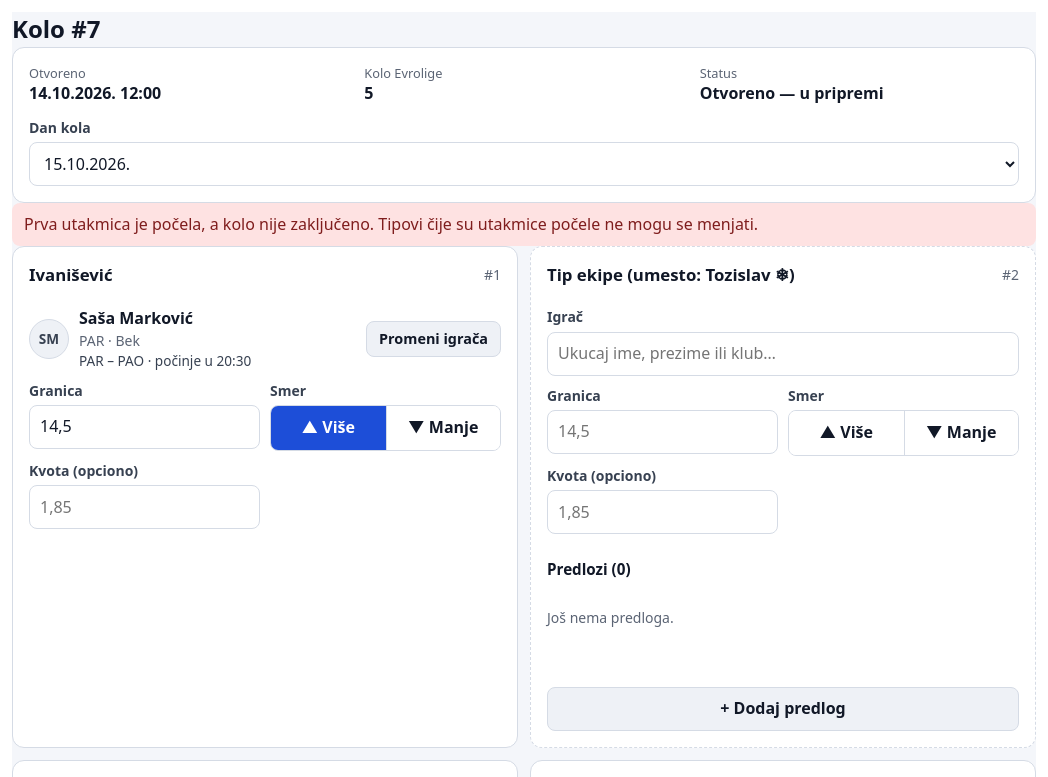
Test: RoundEditor autosave › rejects whole-number lines client-side and saves valid x,5 lines with the CSRF header
In the field labelled "Granica" below "PAR – PAO": (144, 427) [29,405,260,449], type "15"
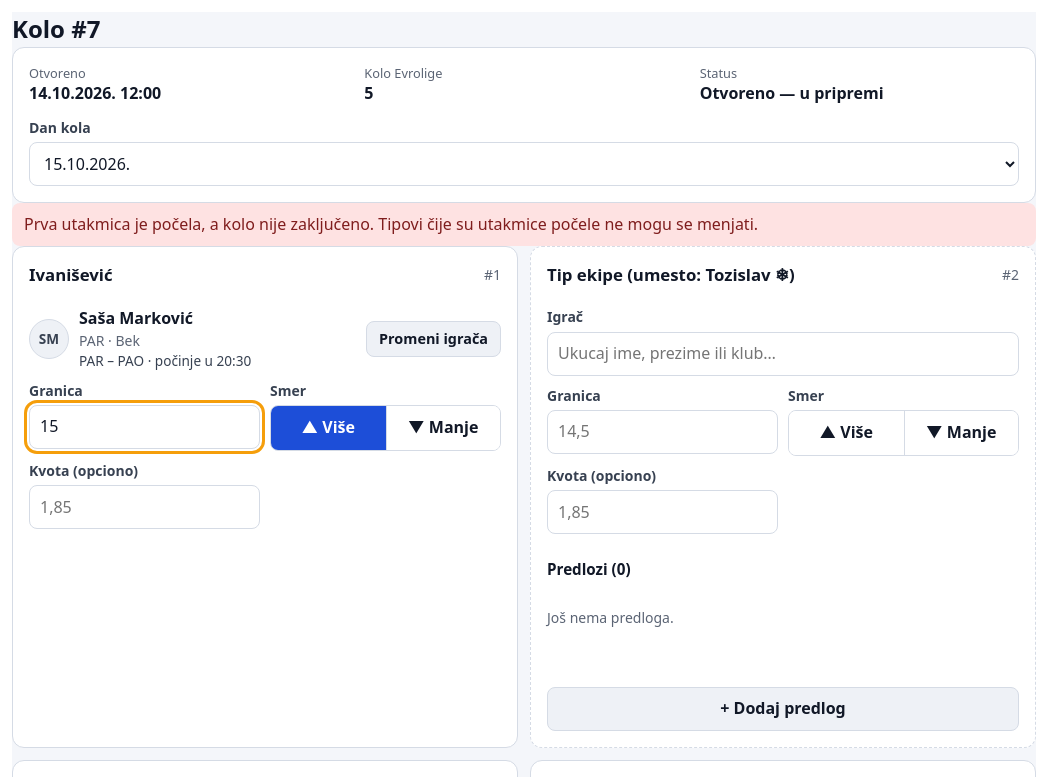
Press Tab
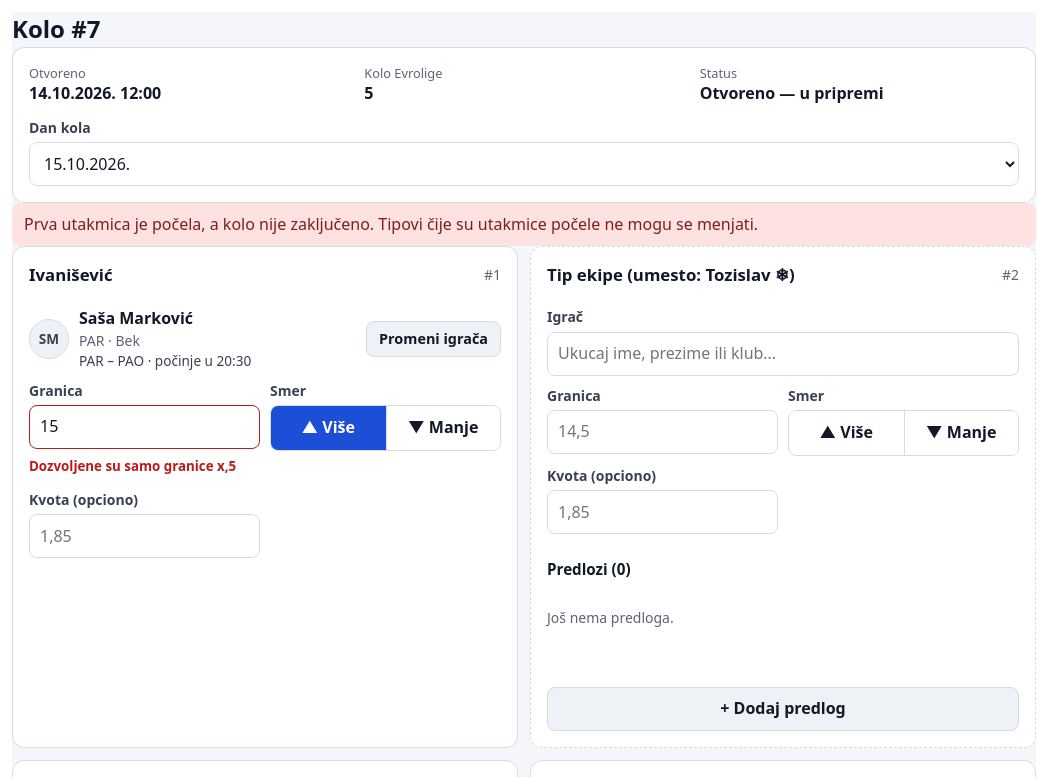
Expected: the text "Dozvoljene su samo granice x,5" is shown, [29,457,260,476]
Replace the text in the field labelled "Granica" below "PAR – PAO" with "16,5": (144, 427) [29,405,260,449]
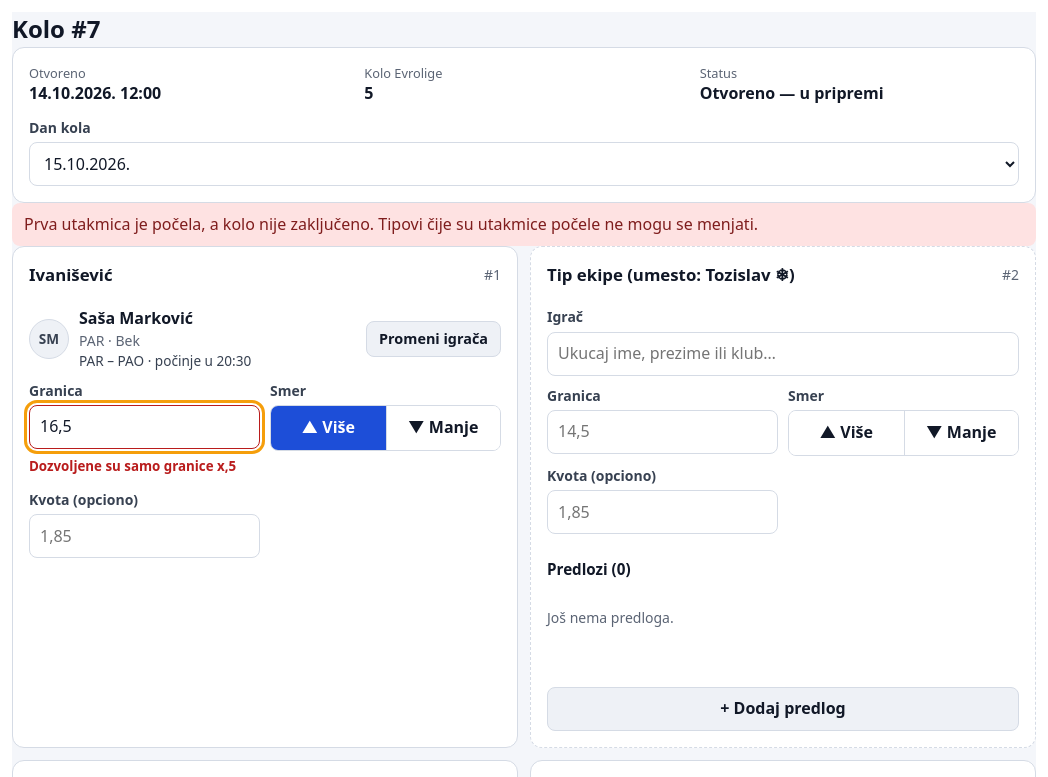
Press Tab
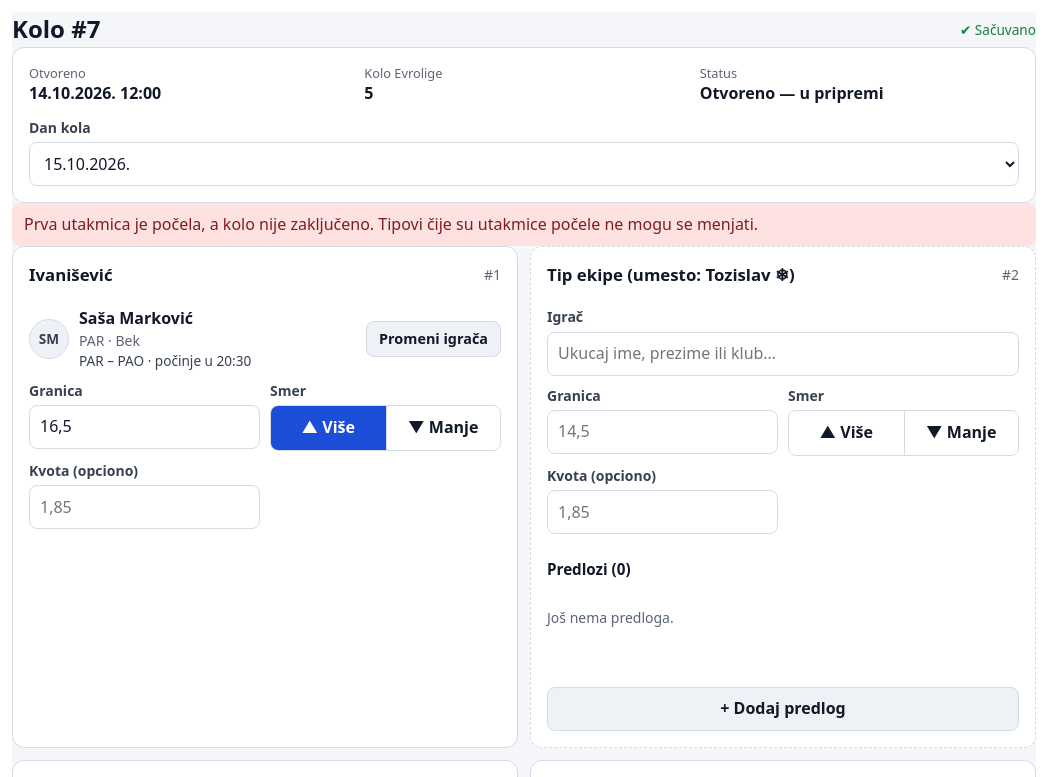
Expected: the text "✔ Sačuvano" is shown, [960,20,1036,38]
